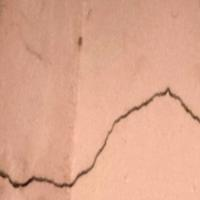crack: (0, 86, 199, 188)
